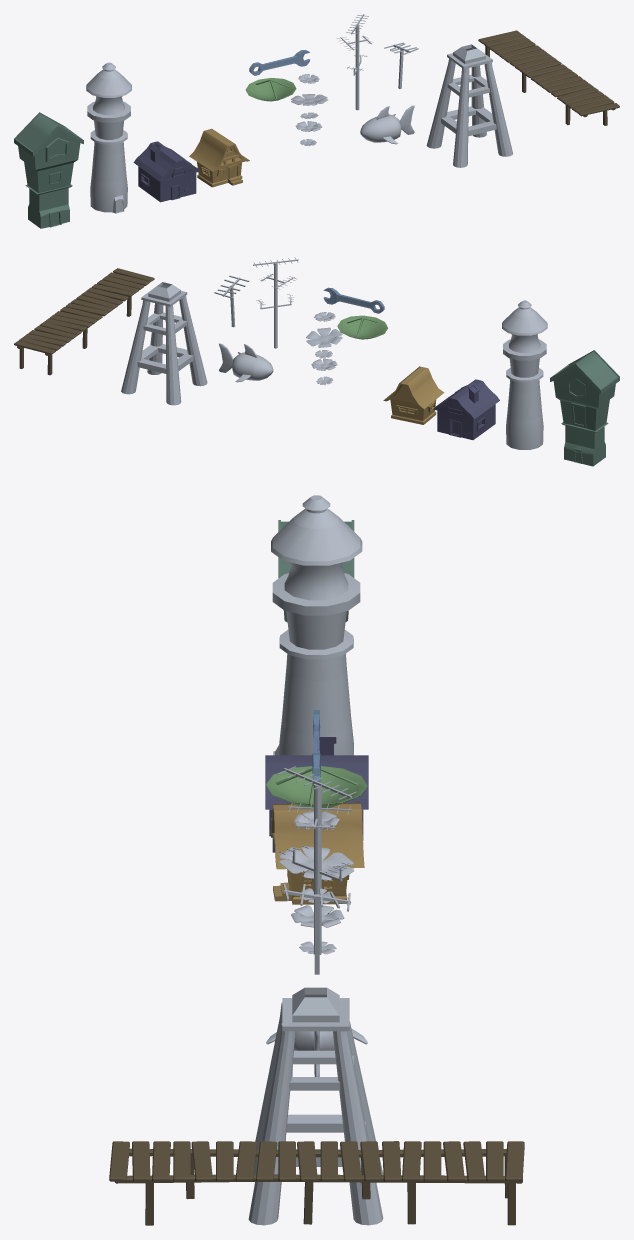
The model's file is placeholders02.fbx.
The picture shows the model from 3 angles, top to bottom: view 1: azimuth 30°, elevation 25°; view 2: azimuth 150°, elevation 25°; view 3: azimuth 270°, elevation 25°; orthographic projection. The views are drawn at different scales.
Parts seen in each view (by area): view 1: pCube16, Torn2, lighthouse1, brygga1, hus4, hus3, fish_lady1, parabol1, Antenn3, wrench1, pCylinder29, anten1; view 2: pCube16, Torn2, lighthouse1, brygga1, hus4, hus3, fish_lady1, parabol1, Antenn3, wrench1, pCylinder29, anten1; view 3: brygga1, lighthouse1, pCube16, hus3, parabol1, hus4, Antenn3, pCylinder29, fish_lady1, anten1.
Boxes of the visible parts, box(x1,y1,x2,y2) form: pCube16: box(426, 44, 512, 167); Torn2: box(14, 112, 83, 228); lighthouse1: box(86, 62, 131, 213); brygga1: box(478, 30, 619, 125); hus4: box(133, 141, 200, 202); hus3: box(189, 128, 249, 187); fish_lady1: box(360, 105, 414, 144); parabol1: box(245, 78, 296, 101); Antenn3: box(336, 14, 373, 110); wrench1: box(249, 50, 309, 75); pCylinder29: box(290, 94, 327, 105); anten1: box(384, 42, 418, 88); pCube16: box(121, 282, 207, 405); Torn2: box(550, 350, 619, 466); lighthouse1: box(502, 300, 547, 449); brygga1: box(14, 268, 154, 375); hus4: box(433, 379, 499, 440); hus3: box(383, 366, 444, 424); fish_lady1: box(219, 343, 273, 382); parabol1: box(337, 315, 387, 339); Antenn3: box(253, 257, 298, 348); wrench1: box(323, 287, 384, 313); pCylinder29: box(306, 327, 342, 347); anten1: box(214, 275, 249, 327); brygga1: box(109, 1141, 524, 1225); lighthouse1: box(271, 495, 362, 755); pCube16: box(248, 987, 383, 1225); hus3: box(270, 802, 364, 904); parabol1: box(266, 766, 367, 808); hus4: box(265, 737, 368, 852); Antenn3: box(277, 766, 356, 954); pCylinder29: box(279, 846, 354, 880); fish_lady1: box(266, 1028, 367, 1076); anten1: box(283, 883, 350, 974).
Bounding box in the file's own units: 21.27 × 6.47 × 7.02.
